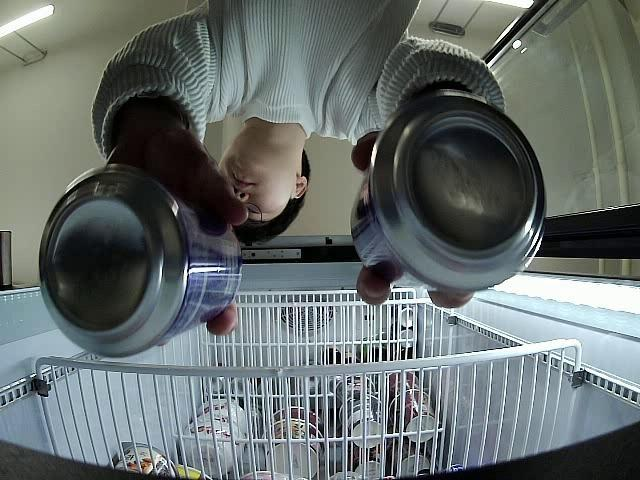14_welchsGrape: (38, 169, 241, 356), (350, 100, 548, 291)
